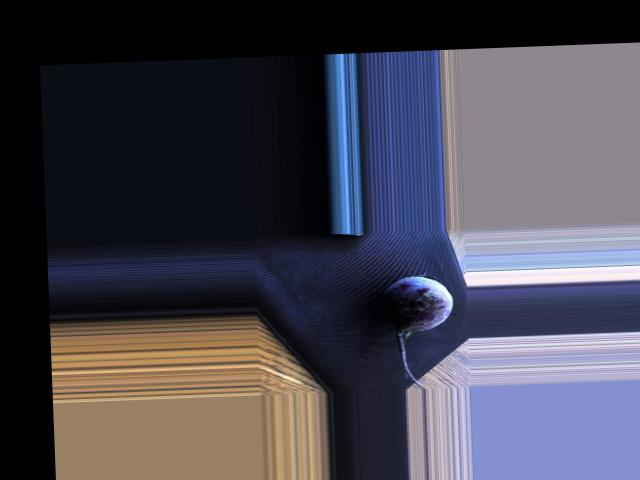beet: (378, 275, 455, 390)
